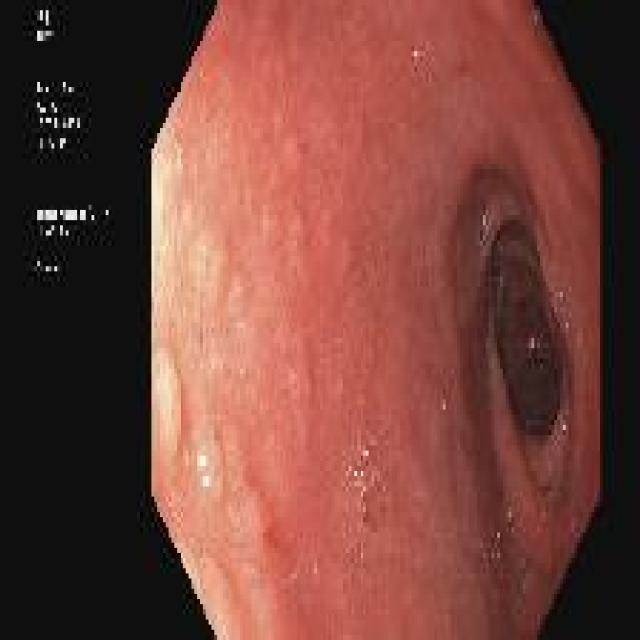ulcerative-colitis: (152, 2, 600, 638)
